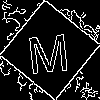M: (25, 25, 71, 74)
